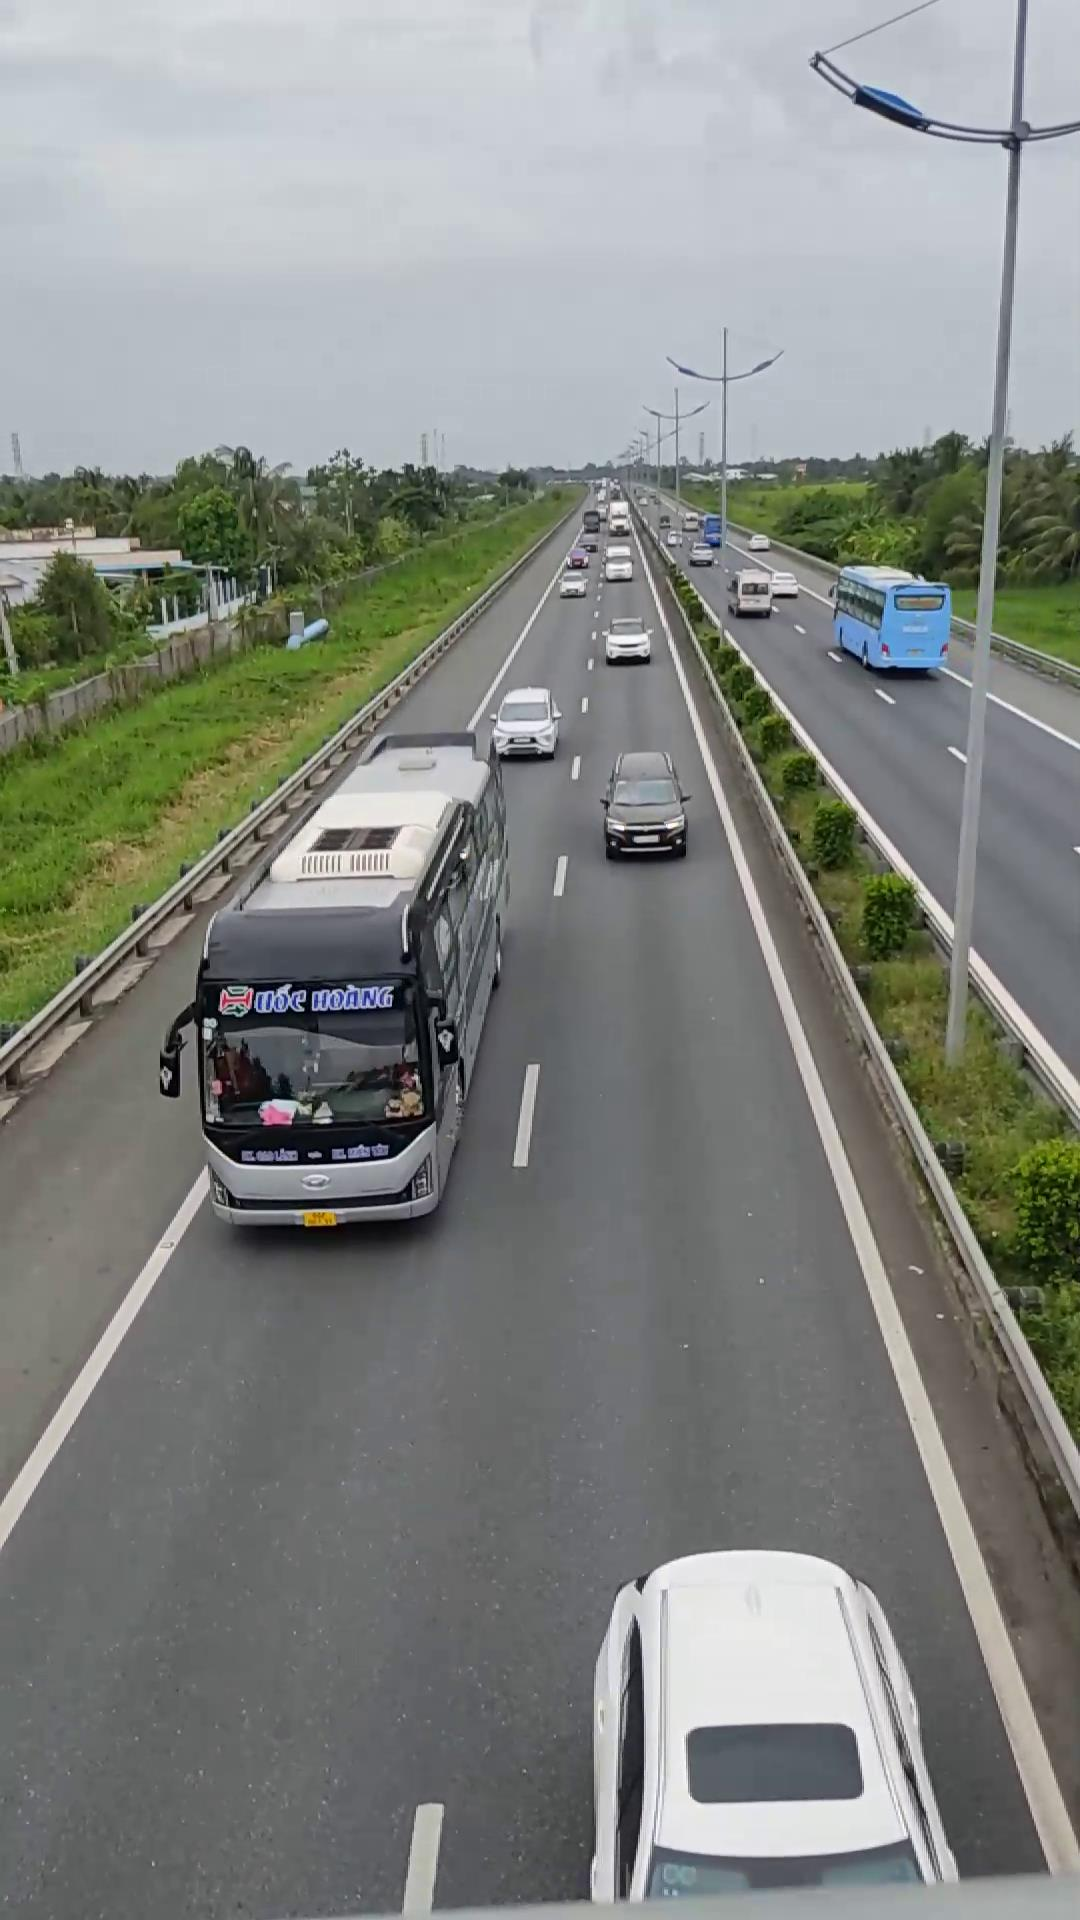bus: (164, 736, 512, 1228), (829, 563, 955, 675)
car: (582, 1547, 945, 1891), (597, 749, 691, 858), (483, 686, 560, 760)
